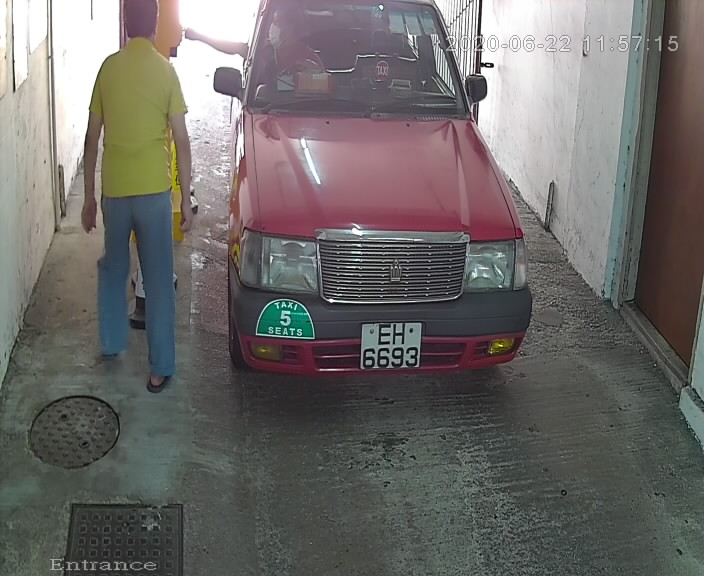taxi: (201, 1, 544, 404)
taxi_mark: (251, 288, 326, 350)
